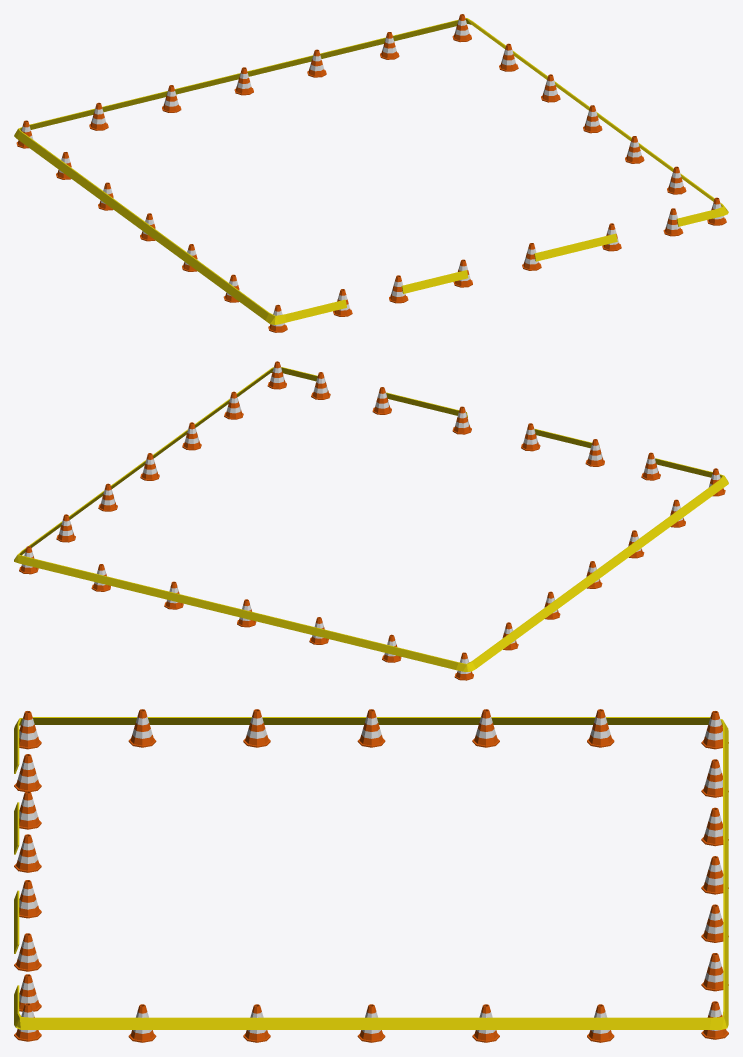
File: 1st floor border.fbx
The picture shows the model from 3 angles, top to bottom: view 1: azimuth 30°, elevation 25°; view 2: azimuth 150°, elevation 25°; view 3: azimuth 270°, elevation 25°; orthographic projection. The views are drawn at different scales.
Parts seen in each view (by area): view 1: Lenta; view 2: Lenta; view 3: Lenta, Conus 1.014, Conus 1.025, Conus 1.026, Conus 1.015, Conus 1.013, Conus 1.012, Conus 1.011, Conus 1.023, Conus 1.027, Conus 1.003, Conus 1.004 (+7 smaller).
Boxes of the visible parts, x1,y1,x2,y2 form: Lenta: (14,18,728,324); Lenta: (14,367,728,671); Lenta: (14,717,728,1029); Conus 1.014: (243,709,270,747); Conus 1.025: (14,933,41,971); Conus 1.026: (14,834,41,872); Conus 1.015: (128,709,156,747); Conus 1.013: (357,709,385,747); Conus 1.012: (472,709,499,747); Conus 1.011: (587,709,614,747); Conus 1.023: (14,754,41,791); Conus 1.027: (19,791,41,829); Conus 1.003: (701,904,728,942); Conus 1.004: (701,856,728,894).
Size of the model in its own units: 2057 by 98.34 by 2026.
